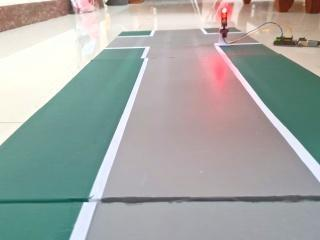red: (215, 2, 231, 39)
